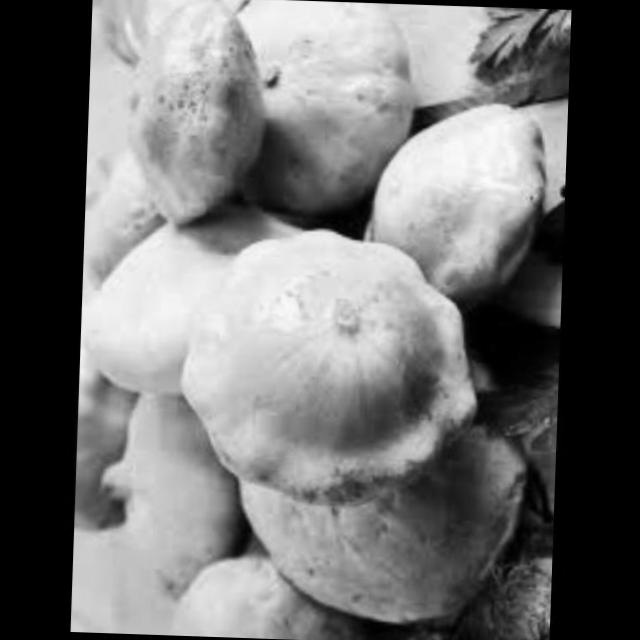squash: (162, 216, 480, 517), (218, 414, 522, 632), (353, 91, 547, 307), (98, 382, 262, 631), (81, 194, 259, 418), (236, 0, 401, 227), (112, 0, 262, 231), (164, 545, 366, 640)
